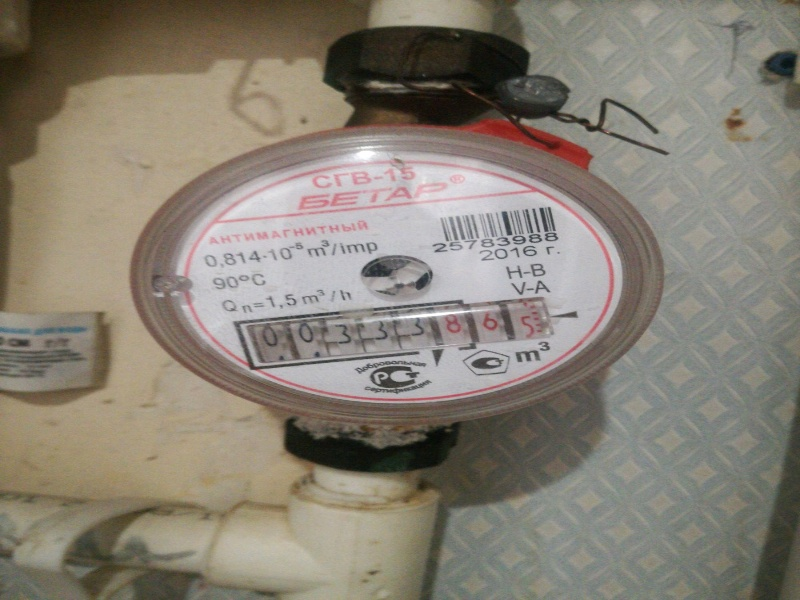meter: (245, 314, 545, 346)
